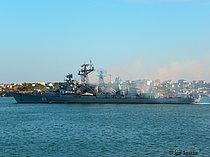MIL_Ship: (6, 60, 204, 105)
